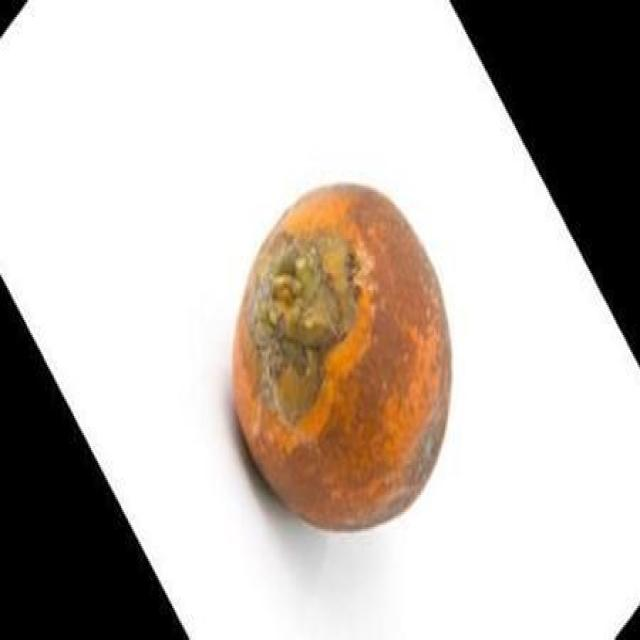good: (232, 186, 452, 533)
